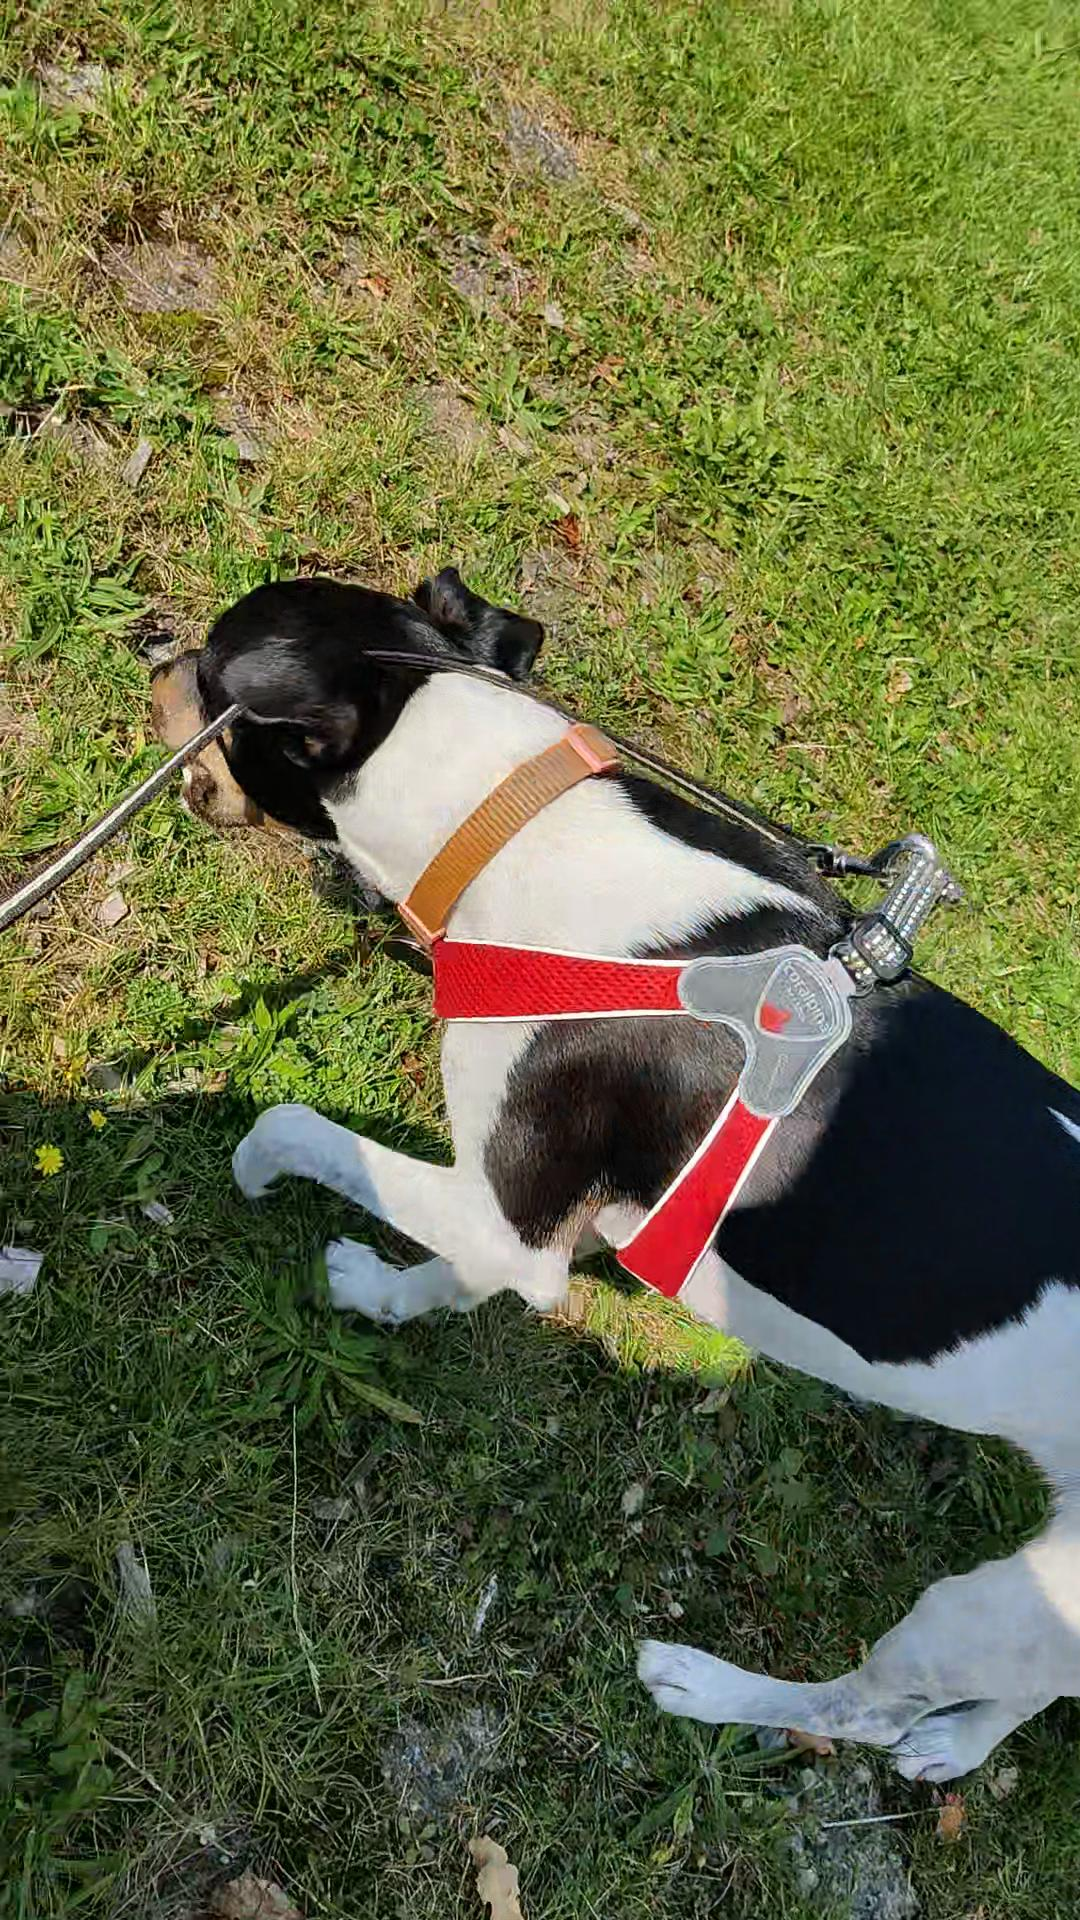Dog: (108, 512, 1079, 1807)
